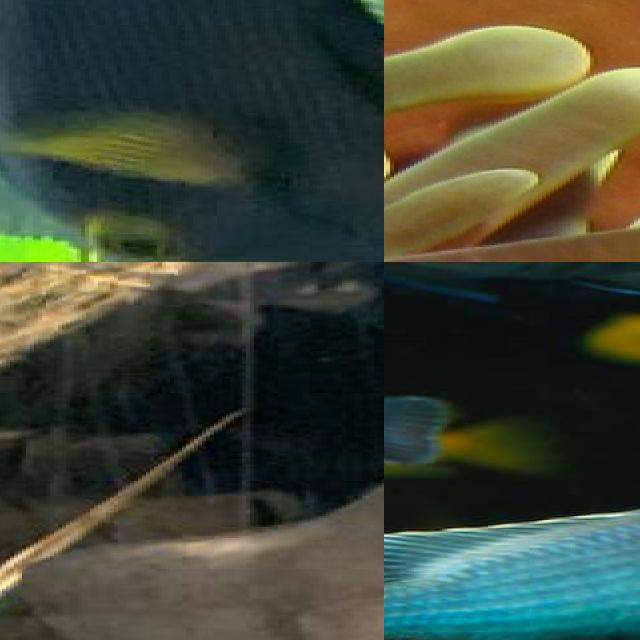fish: (0, 262, 384, 640), (0, 0, 384, 262)
